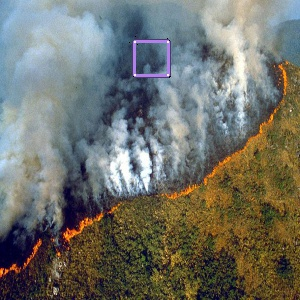square: (130, 38, 173, 80)
